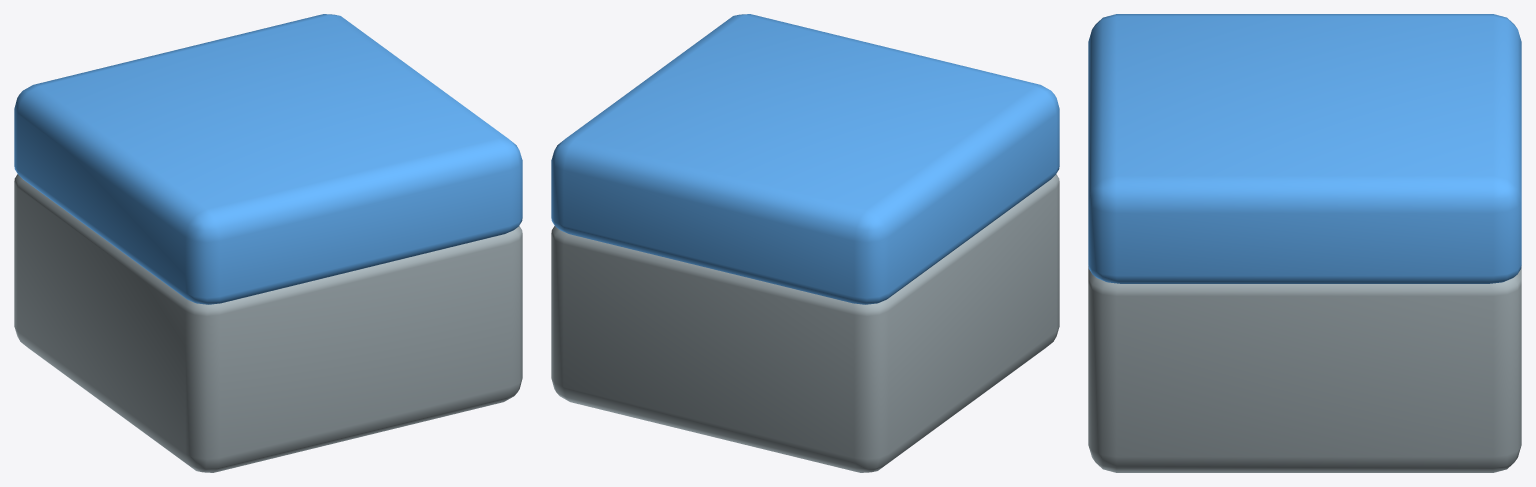
The model's file is tileMedium_teamBlue.glb.
3 renders of one model, left to right at view 1: azimuth 30°, elevation 25°; view 2: azimuth 150°, elevation 25°; view 3: azimuth 270°, elevation 25°, orthographic. The views are drawn at different scales.
Parts seen in each view (by area): view 1: tileMedium_teamBlue; view 2: tileMedium_teamBlue; view 3: tileMedium_teamBlue.
Part boxes in pixels (x1,y1,x2,y2): tileMedium_teamBlue: [14, 14, 522, 472]; tileMedium_teamBlue: [551, 14, 1059, 472]; tileMedium_teamBlue: [1088, 14, 1521, 472].
Size of the model in its own units: 0.7 by 0.525 by 0.7.
